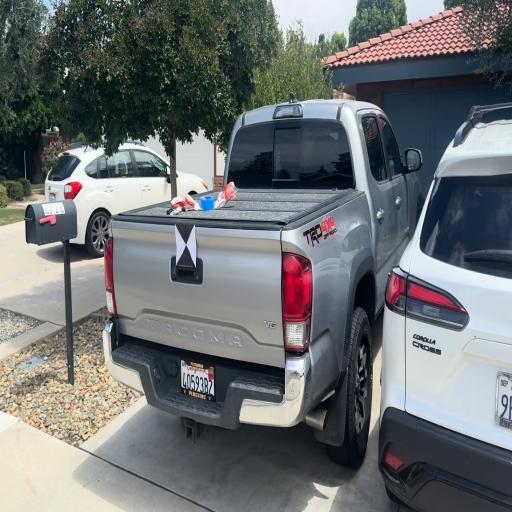target: (176, 222, 196, 266)
